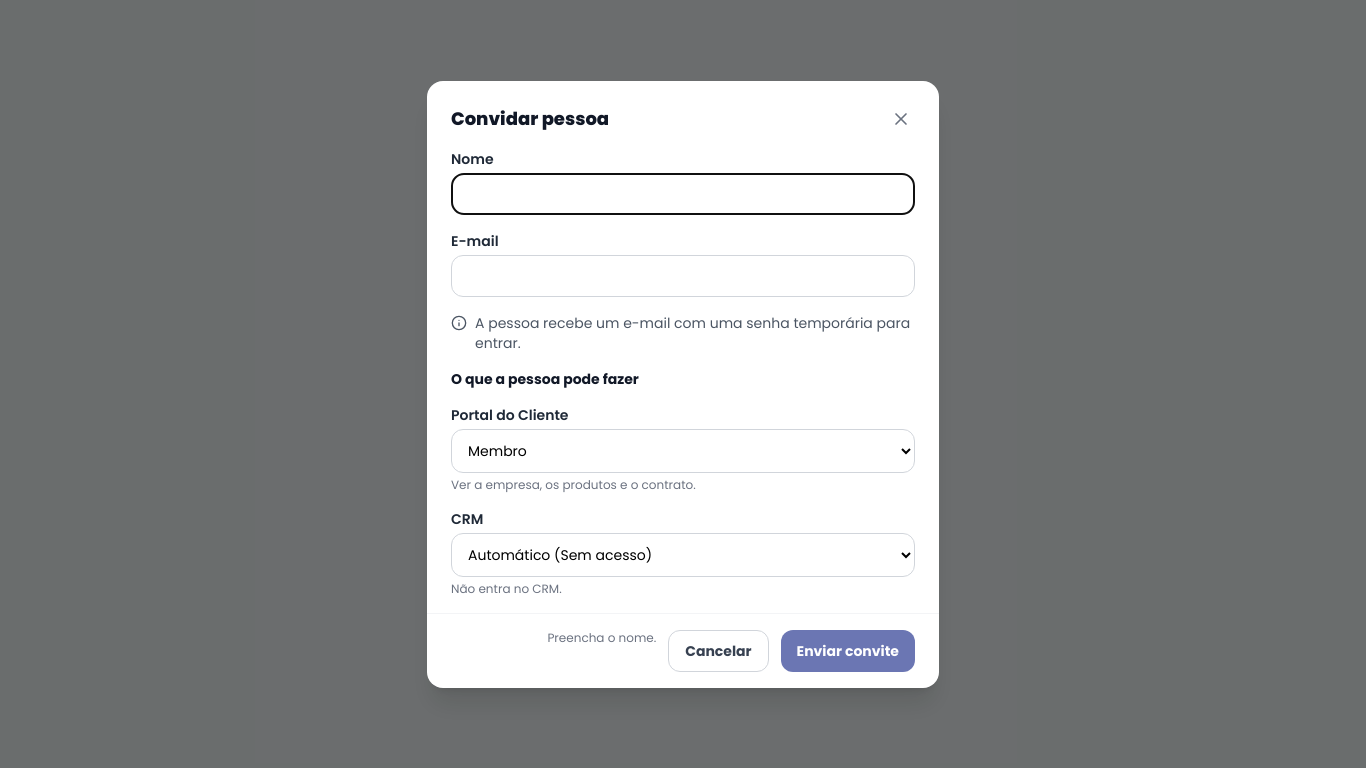
Scenario: UsuarioDialog — convidar › o botão desabilitado diz o motivo
Expected: the button "Enviar convite" is disabled, [781,630,915,672]
In the field labelled "Nome": (683, 194) [451,172,915,214], type "Bia Lima"
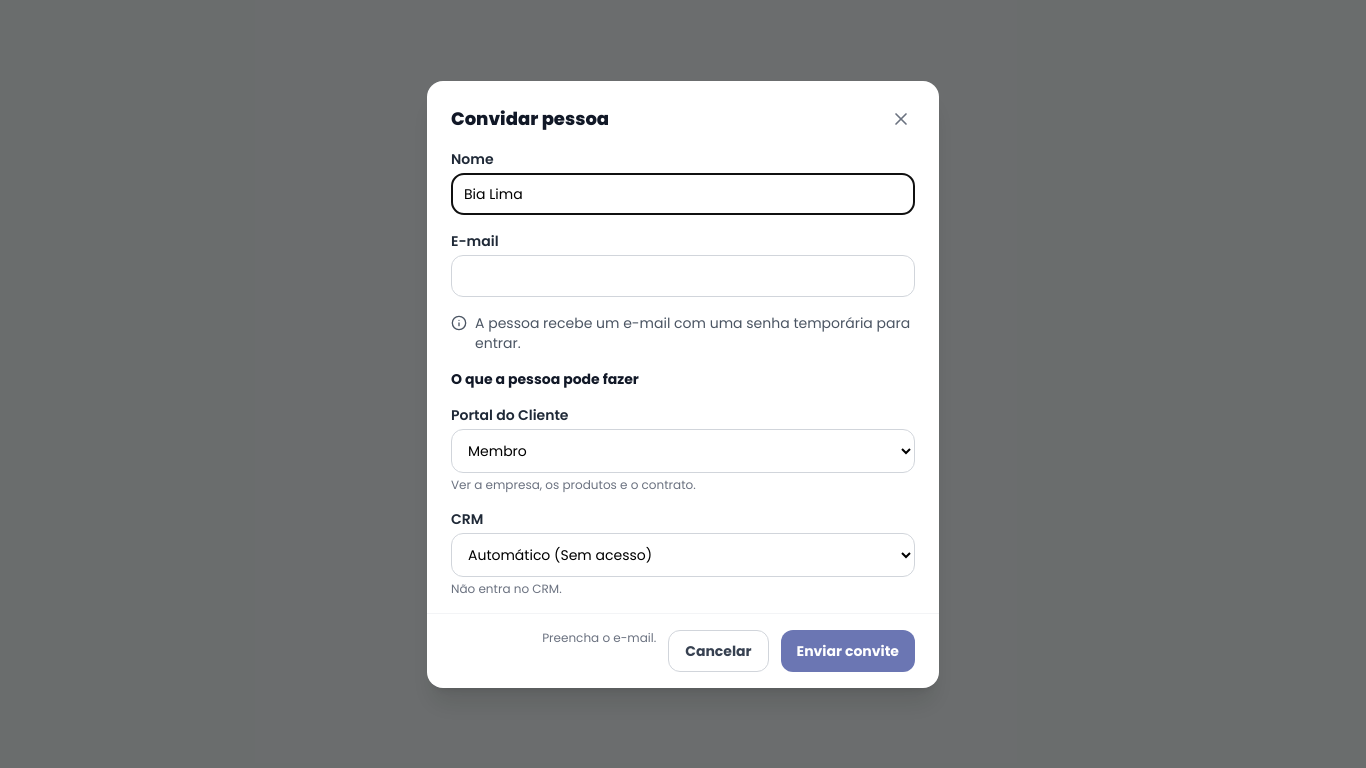
In the field labelled "E-mail": (683, 276) [451,254,915,296], type "bia@"
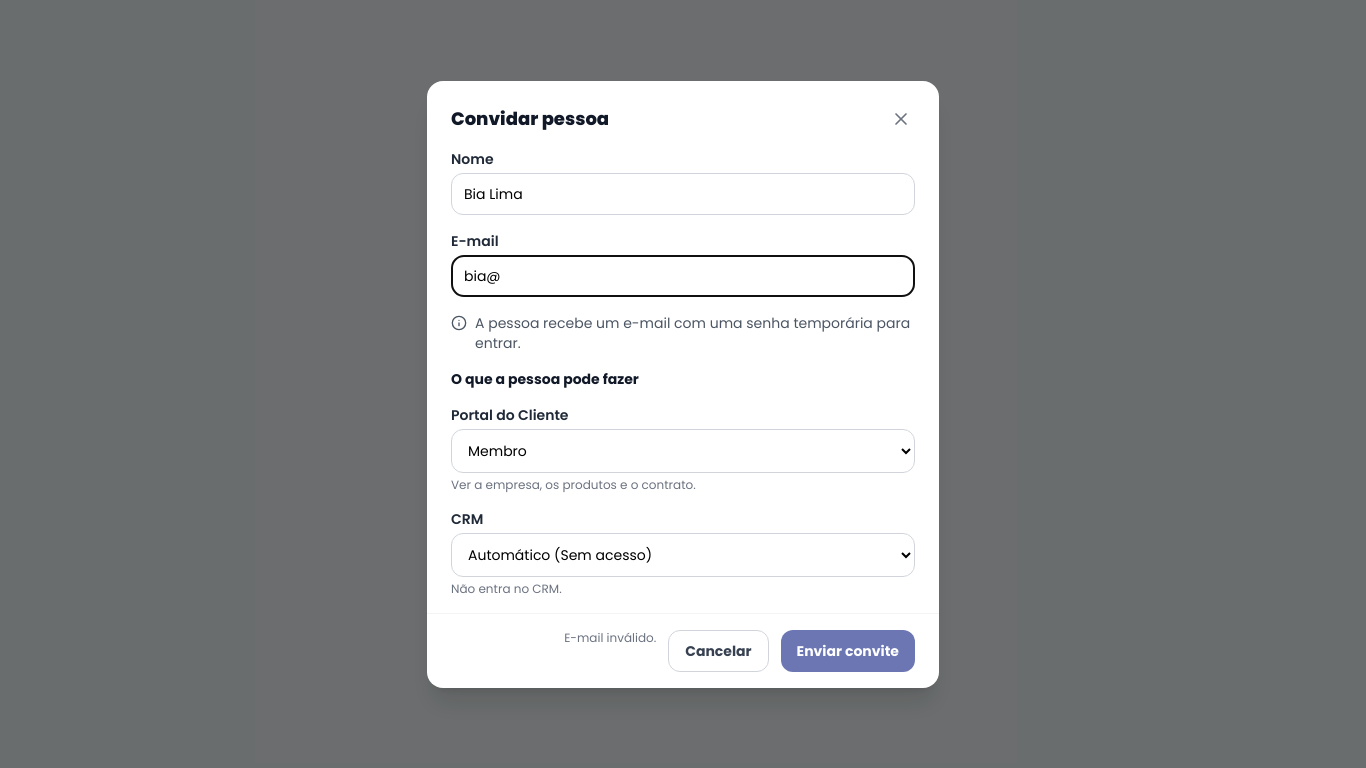
In the field labelled "E-mail": (683, 276) [451,254,915,296], type "loja.com"
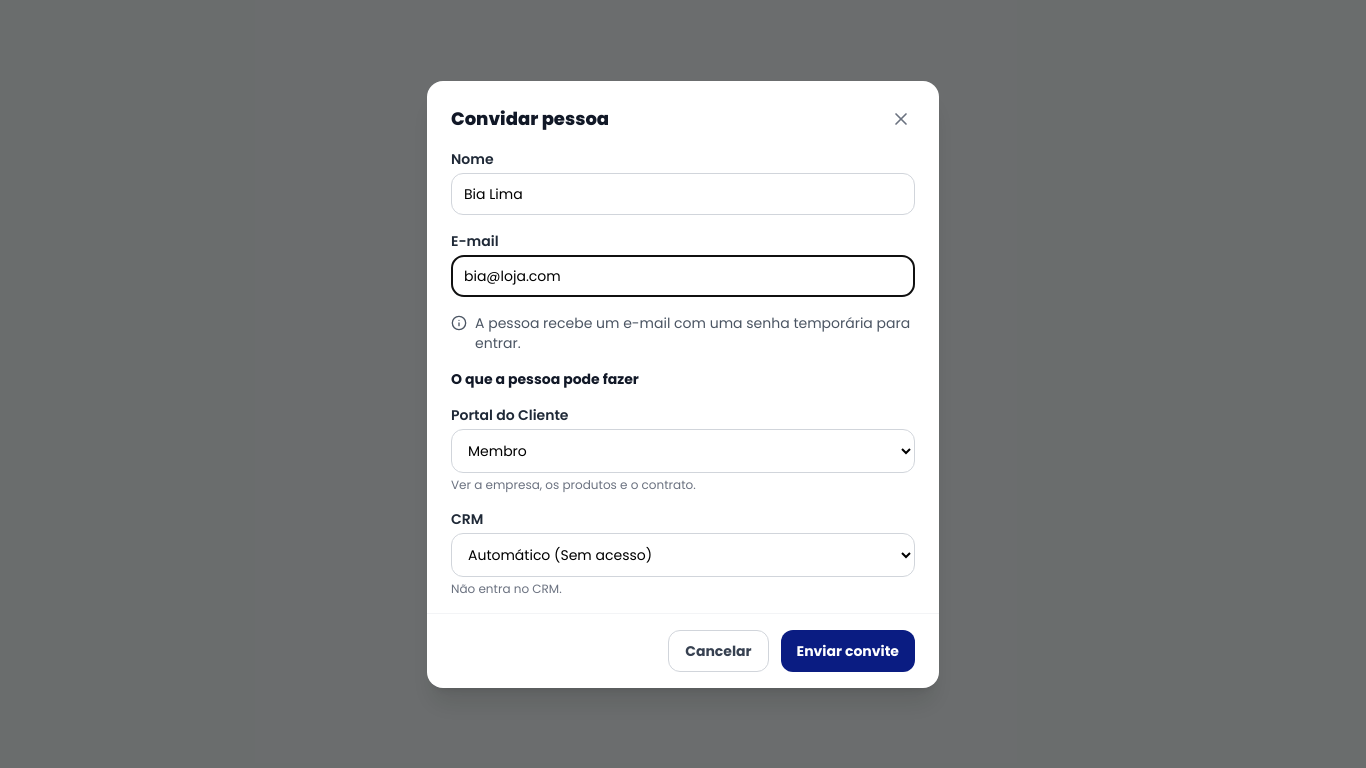
Now the button "Enviar convite" is enabled, box [781,630,915,672]
